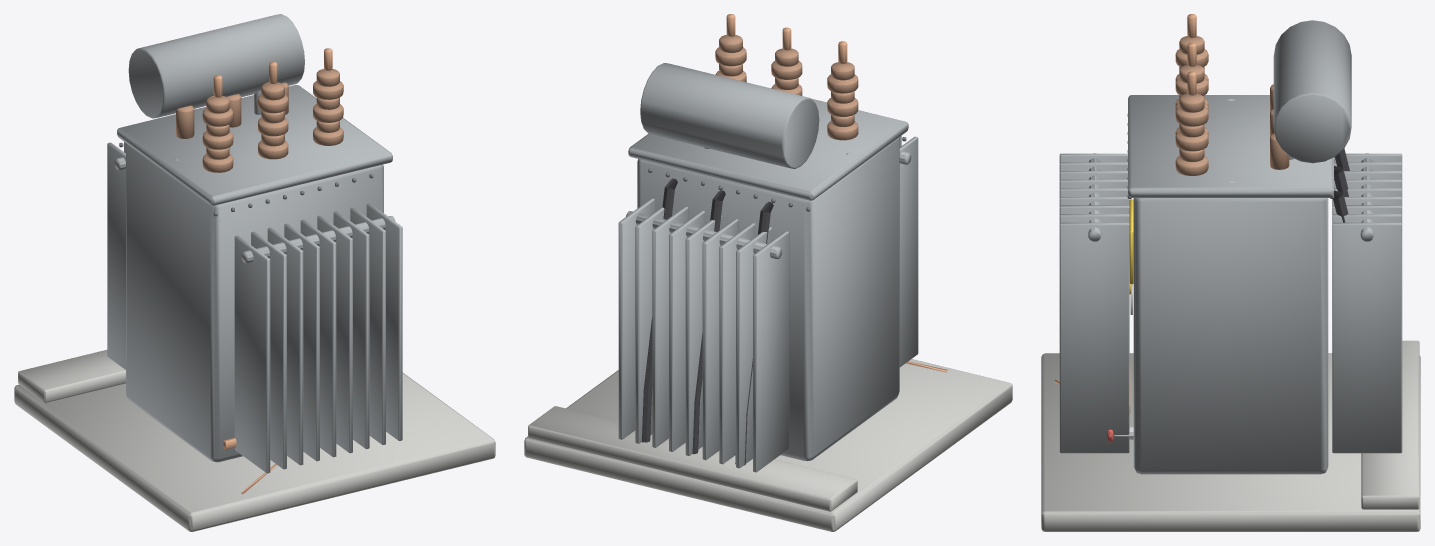
Rendered from transformer.glb.
3 views of the same model, side by side, from view 1: azimuth 30°, elevation 25°; view 2: azimuth 150°, elevation 25°; view 3: azimuth 270°, elevation 25° (orthographic). The views are drawn at different scales.
Parts seen in each view (by area): view 1: Body; view 2: Body; view 3: Body.
Part boxes in pixels (left/top/right/bottom): Body: left=14, top=14, right=495, bottom=531; Body: left=524, top=14, right=1012, bottom=531; Body: left=1041, top=14, right=1420, bottom=531.
Bounding box in the file's own units: 1.95 × 2.32 × 1.95.
